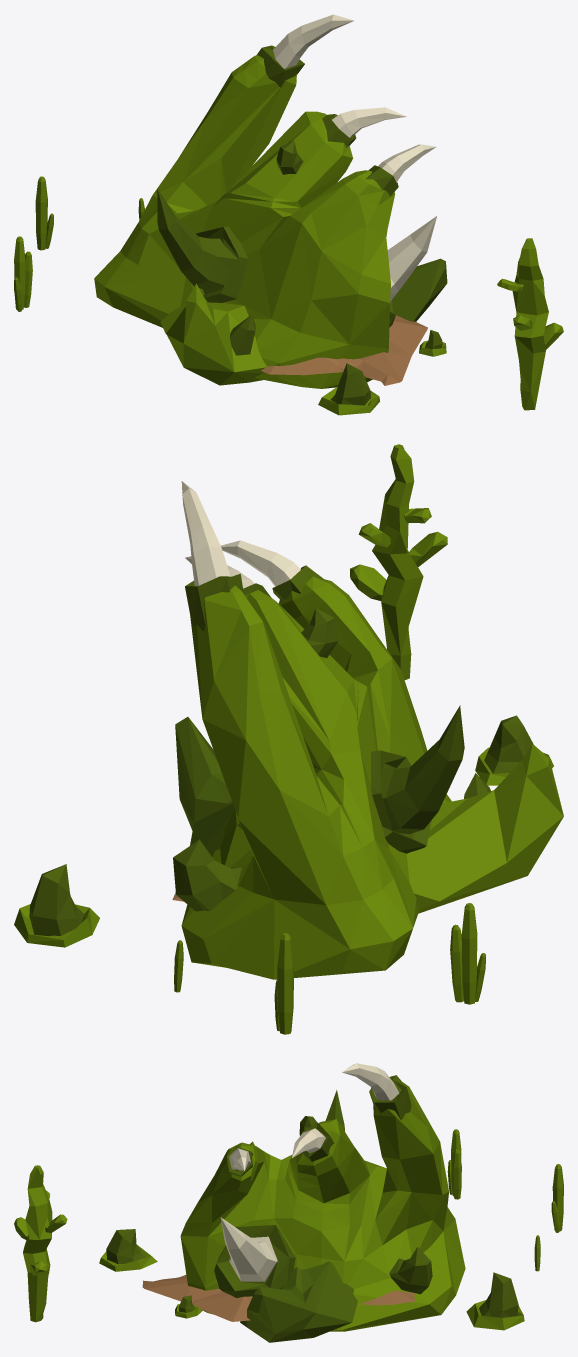
Rendered from desert_assets_1.glb.
3 renders of one model, top to bottom at view 1: azimuth 30°, elevation 25°; view 2: azimuth 150°, elevation 25°; view 3: azimuth 270°, elevation 25°, orthographic. The views are drawn at different scales.
Parts seen in each view (by area): view 1: Box14698, Cylinder1142_Color_0, Plane051, Cylinder1136_Color_0, Cylinder1148_Color_0, Cylinder1149_Color_0, Plane052, Cylinder1140_Color_0; view 2: Box14698, Cylinder1142_Color_0, Cylinder1138_Color_0, Cylinder1148_Color_0, Cylinder1136_Color_0, Cylinder1149_Color_0; view 3: Box14698, Cylinder1142_Color_0, Plane051, Cylinder1138_Color_0, Cylinder1136_Color_0, Cylinder1148_Color_0, Cylinder1149_Color_0, Plane054, Cylinder1140_Color_0.
Part boxes in pixels (box(x1,y1,x2,y2)): Box14698: box(94, 14, 447, 388); Cylinder1142_Color_0: box(497, 238, 563, 410); Plane051: box(336, 315, 427, 385); Cylinder1136_Color_0: box(318, 363, 379, 415); Cylinder1148_Color_0: box(14, 236, 32, 311); Cylinder1149_Color_0: box(35, 176, 53, 250); Plane052: box(261, 357, 342, 375); Cylinder1140_Color_0: box(419, 330, 446, 356); Box14698: box(173, 481, 563, 979); Cylinder1142_Color_0: box(350, 444, 447, 679); Cylinder1138_Color_0: box(14, 864, 99, 947); Cylinder1148_Color_0: box(450, 903, 485, 1004); Cylinder1136_Color_0: box(475, 715, 553, 785); Cylinder1149_Color_0: box(274, 933, 294, 1034); Box14698: box(180, 1063, 465, 1342); Cylinder1142_Color_0: box(14, 1165, 67, 1322); Plane051: box(142, 1275, 252, 1321); Cylinder1138_Color_0: box(466, 1272, 524, 1330); Cylinder1136_Color_0: box(99, 1229, 157, 1271); Cylinder1148_Color_0: box(447, 1129, 461, 1199); Cylinder1149_Color_0: box(551, 1164, 563, 1232); Plane054: box(358, 1290, 415, 1305); Cylinder1140_Color_0: box(175, 1295, 202, 1318).
Size of the model in its own units: 2.89 by 2.52 by 4.59.
1 material, 1 textured.
